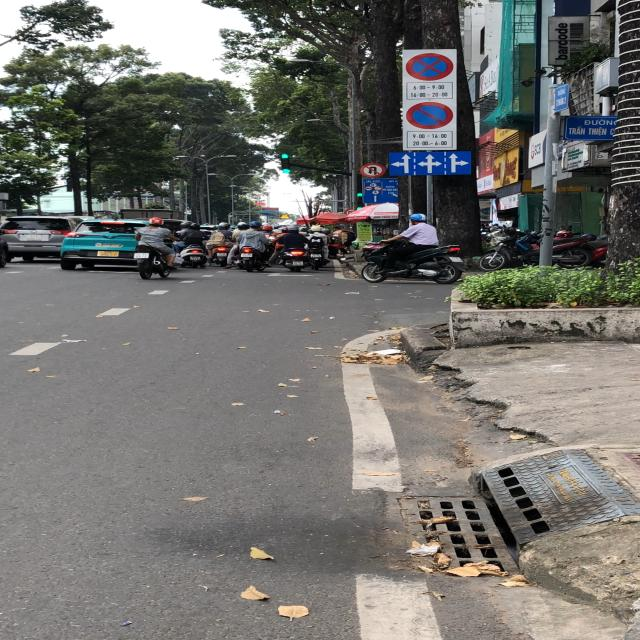Bien bao cam do xe: (404, 100, 456, 131)
Bien bao cam dung xe va do xe: (405, 51, 458, 81)
Bien bao cam quay dau xe: (358, 162, 388, 179)
